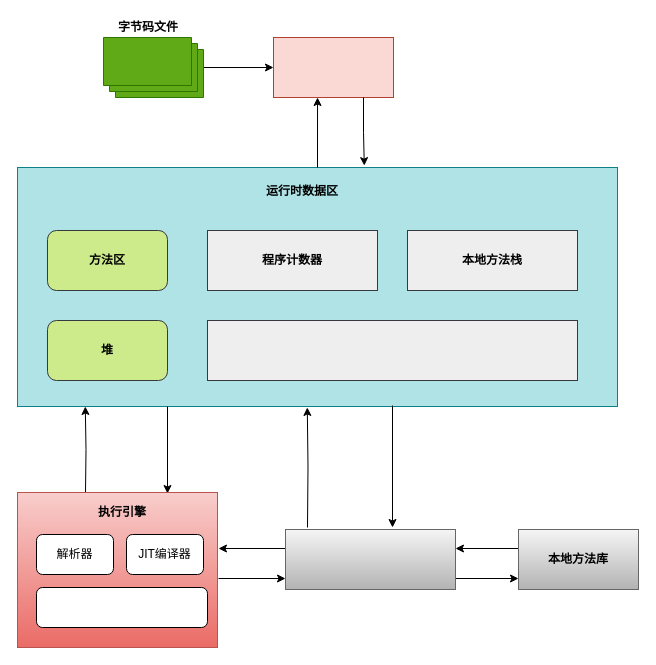
Some shapes in this 656 by 665 pixel diagram are drawn without their labels. The centre of each missing label's shape, as x and y in pixels:
"垃圾回收器" goes at point 122,607.
"本地方法接口" goes at point 370,559.
"类加载器系统" goes at point 333,67.
"虚拟机栈" goes at point 392,350.
